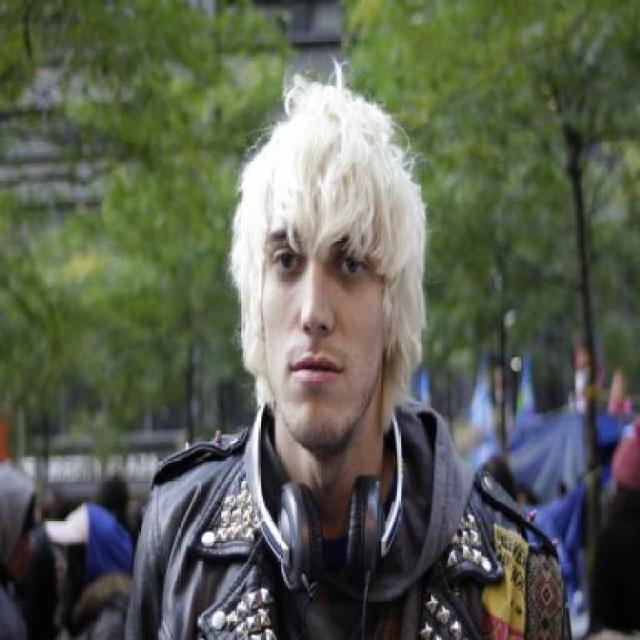earphone: (213, 392, 432, 600)
